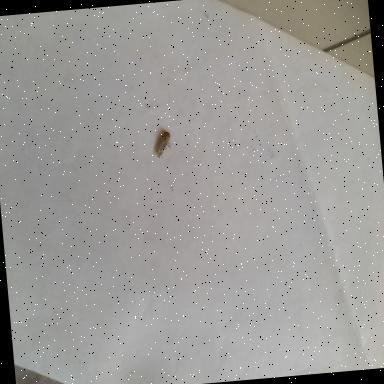pbw: (154, 130, 173, 160)
